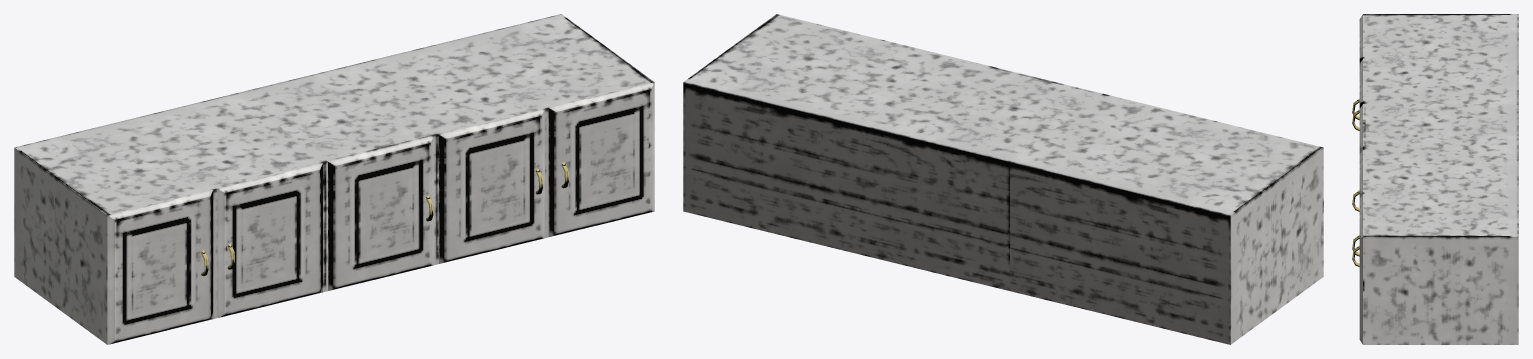
Rendered from CabinetShelf.fbx.
The picture shows the model from 3 angles, left to right: view 1: azimuth 30°, elevation 25°; view 2: azimuth 150°, elevation 25°; view 3: azimuth 270°, elevation 25°; orthographic projection. The views are drawn at different scales.
Visible parts, largest first — view 1: polySurface45; view 2: polySurface45; view 3: polySurface45.
Boxes of the visible parts, box(x1,y1,x2,y2) form: polySurface45: box(14, 14, 654, 344); polySurface45: box(683, 14, 1323, 344); polySurface45: box(1352, 14, 1518, 344).
Bounding box in the file's own units: 337 × 76 × 106.
